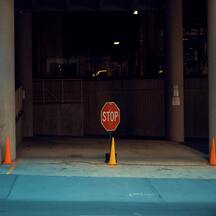Circle: (100, 102, 120, 130)
